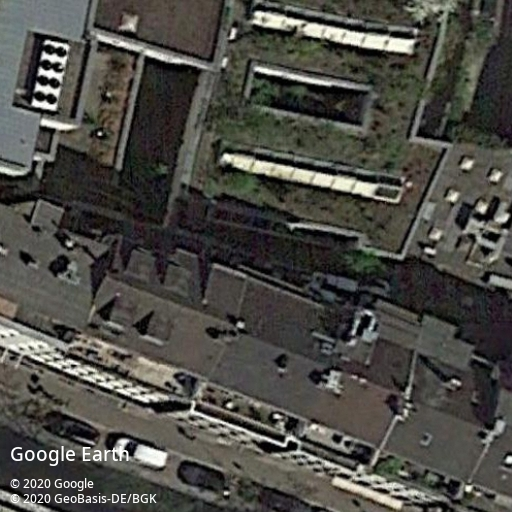Chiller: (30, 39, 69, 112)
